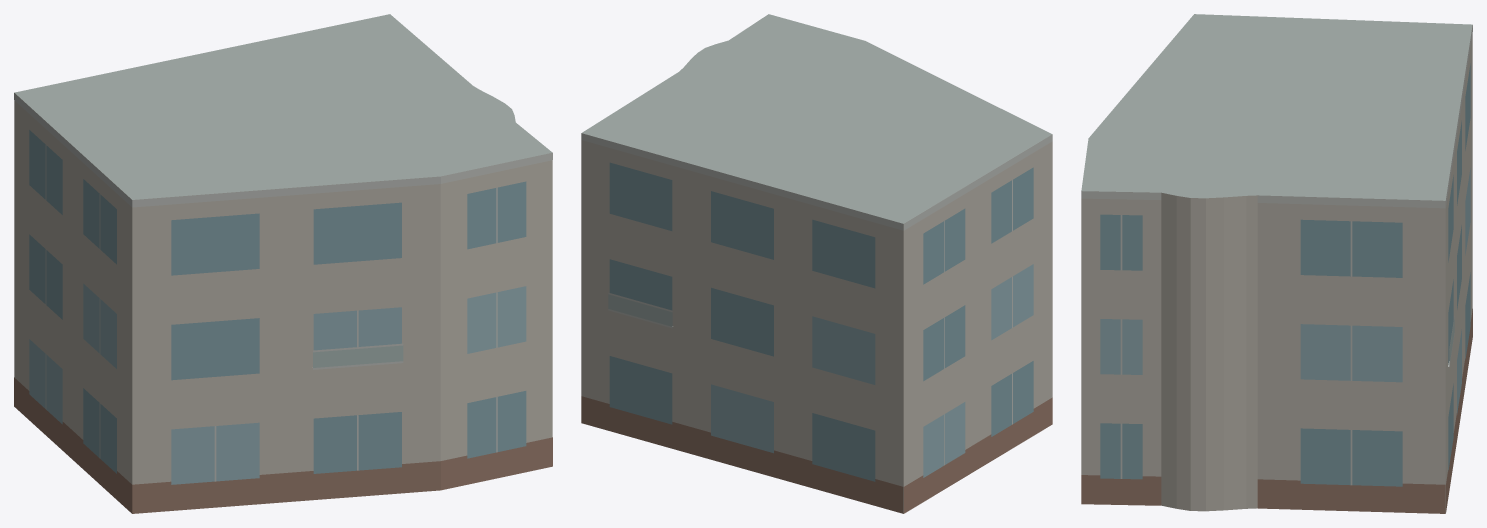
The model's file is survey-upis-33016766.glb.
3 views of the same model, side by side, from view 1: azimuth 30°, elevation 25°; view 2: azimuth 150°, elevation 25°; view 3: azimuth 270°, elevation 25° (orthographic). The views are drawn at different scales.
Parts seen in each view (by area): view 1: survey-upis-33016766.tmp; view 2: survey-upis-33016766.tmp; view 3: survey-upis-33016766.tmp.
Part boxes in pixels (bbox=[...]): survey-upis-33016766.tmp: bbox=[14, 14, 552, 513]; survey-upis-33016766.tmp: bbox=[581, 14, 1052, 513]; survey-upis-33016766.tmp: bbox=[1081, 14, 1472, 513].
Bounding box in the file's own units: 13.07 × 10.2 × 11.57.
